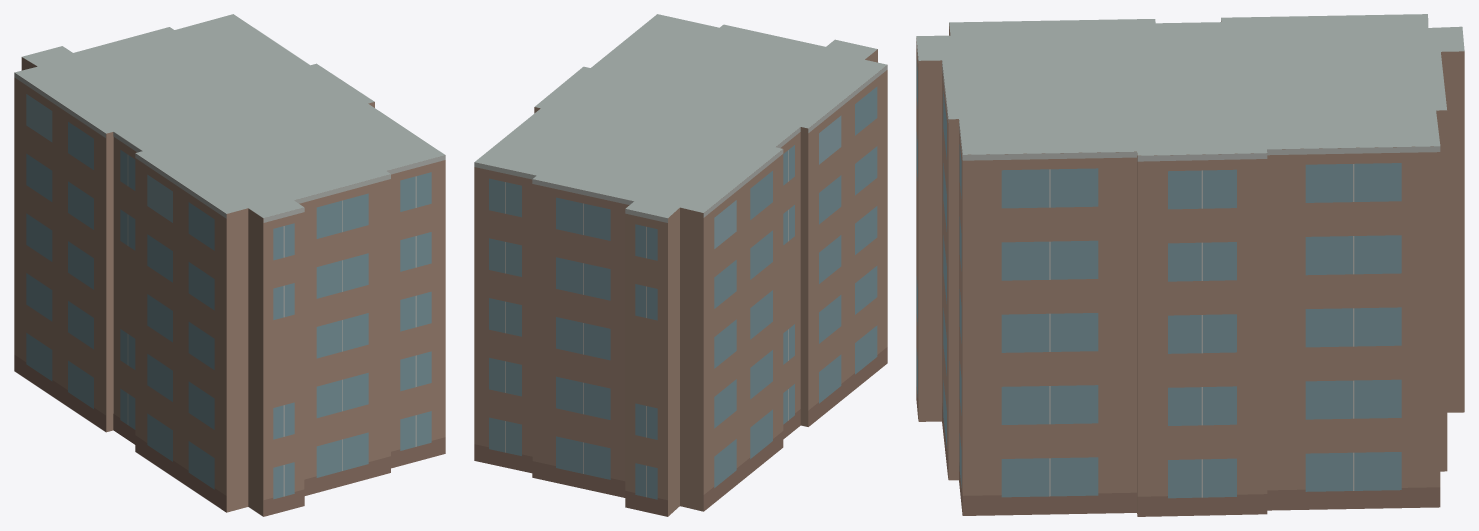
The model's file is survey-upis-32909317.glb.
The picture shows the model from 3 angles, left to right: view 1: azimuth 30°, elevation 25°; view 2: azimuth 150°, elevation 25°; view 3: azimuth 270°, elevation 25°; orthographic projection. The views are drawn at different scales.
Parts seen in each view (by area): view 1: survey-upis-32909317.tmp; view 2: survey-upis-32909317.tmp; view 3: survey-upis-32909317.tmp.
Part boxes in pixels (x1,y1,x2,y2): survey-upis-32909317.tmp: [14, 14, 445, 516]; survey-upis-32909317.tmp: [474, 14, 887, 516]; survey-upis-32909317.tmp: [916, 14, 1464, 516].
Bounding box in the file's own units: 12.77 × 15.15 × 20.86.
